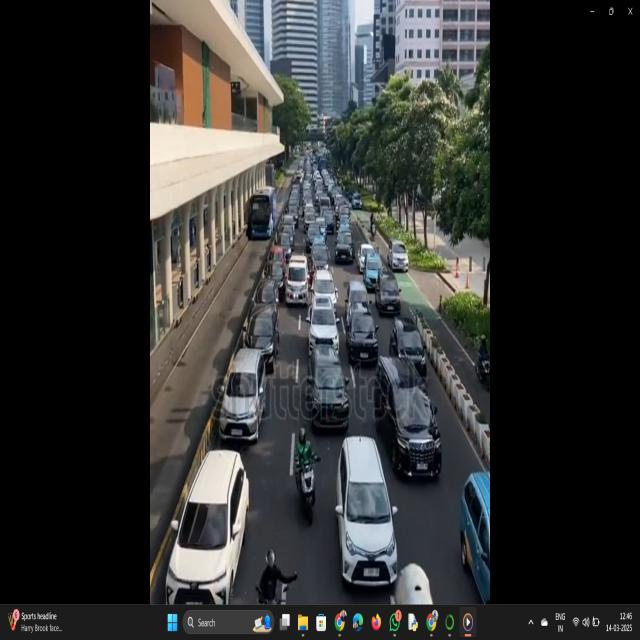Ambulance: (285, 248, 311, 310)
